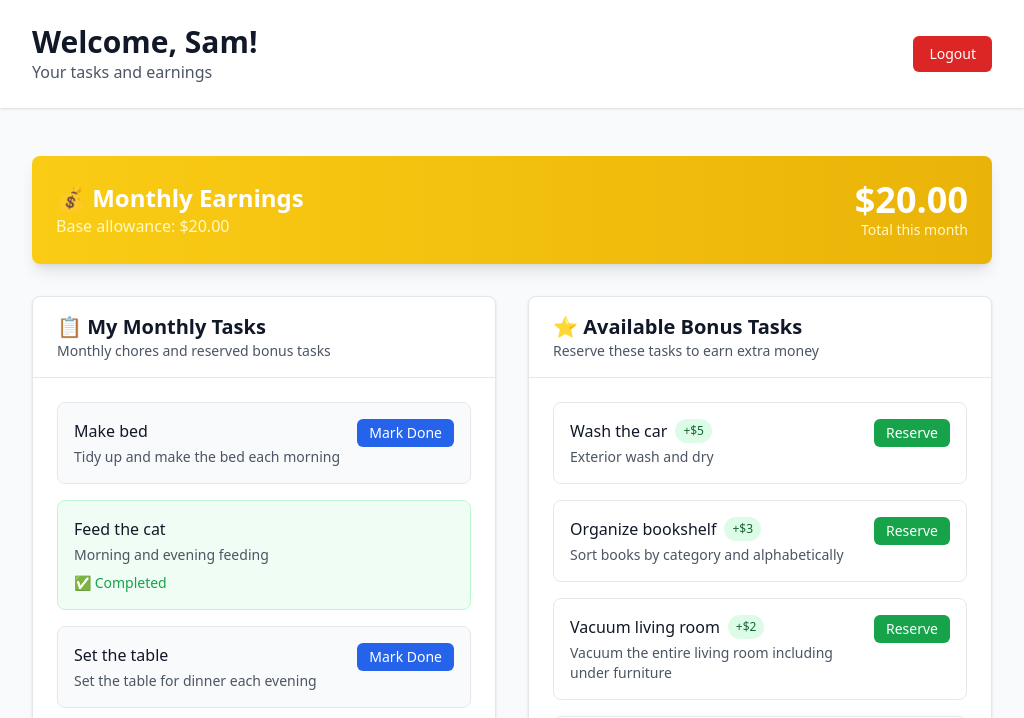
Scenario: ChildDashboard › should handle task reservation error
Expected: the heading "Wash the car" is shown, [570,419,667,443]
Click the button "Reserve" in the row of "Wash the car". click: (912, 433)
box: [874,419,950,447]
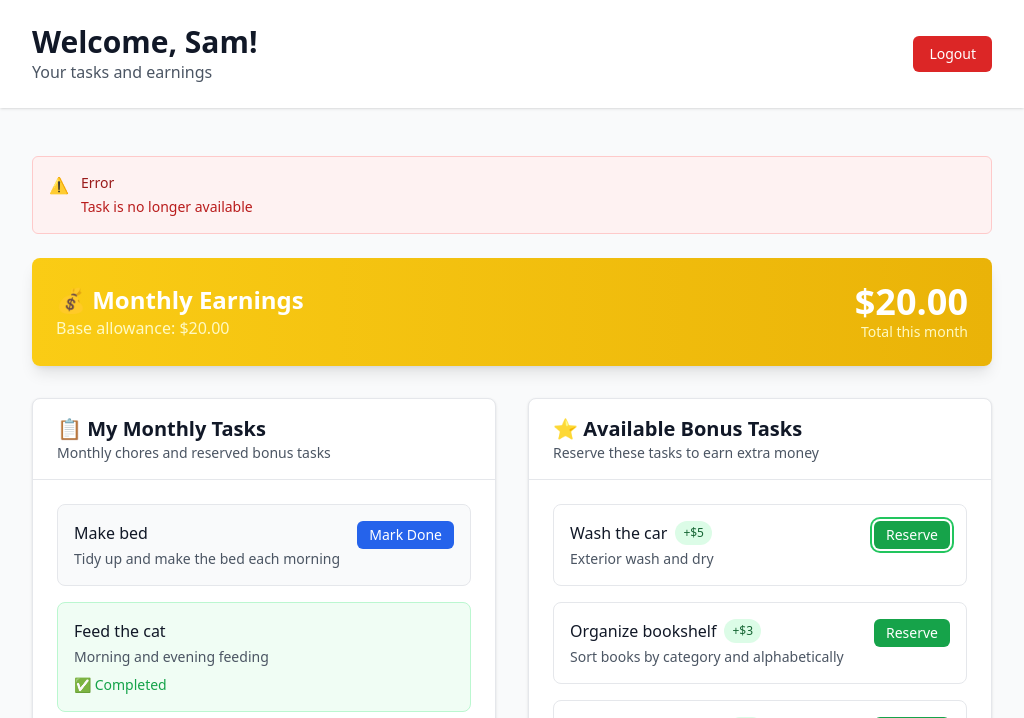
Expected: the heading "Error" is shown, [81,173,114,192]
Expected: the text "Task is no longer available" is shown, [81,197,253,217]
